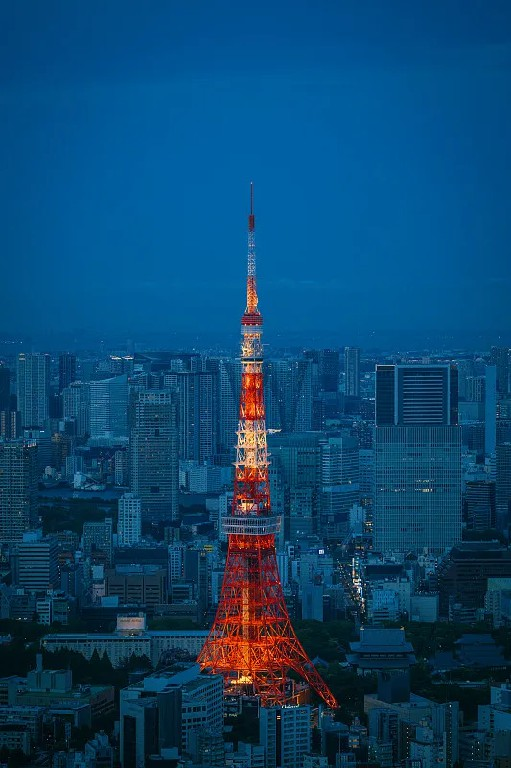Tokyo: (195, 180, 338, 709)
